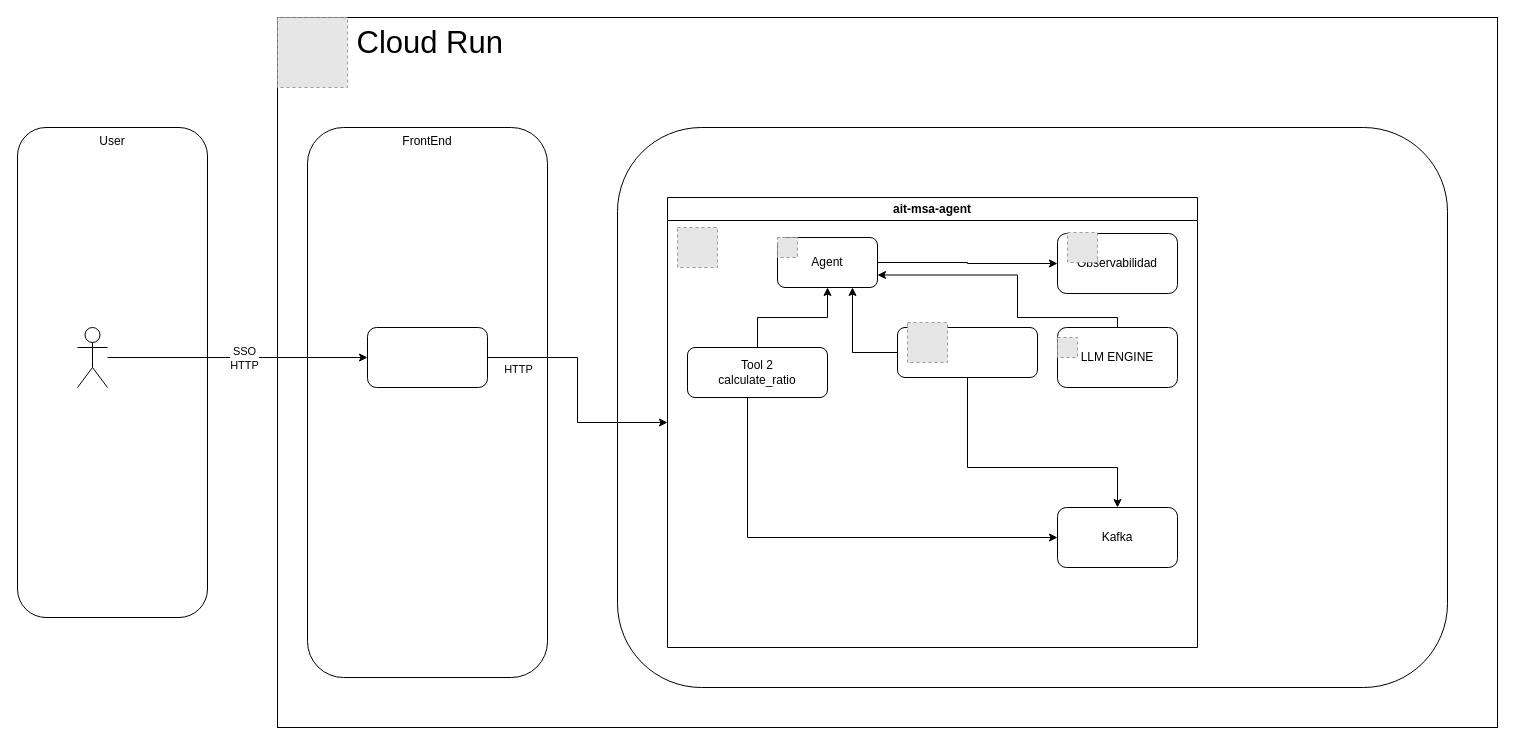
The diagram is 1515 pixels wide and 745 high, and some of its shapes have lost their labels. Grey dashed boxes stand in for pictures. The shapes that lost their labels are listed below. From the top down, each one's box as (x1, y1, x2, y2) in pixels, then its label:
(76, 326, 108, 388): Anlaista
(366, 326, 488, 388): canal
(896, 326, 1038, 378): Tool 1 search_financial_data
(616, 126, 1448, 688): Backend
